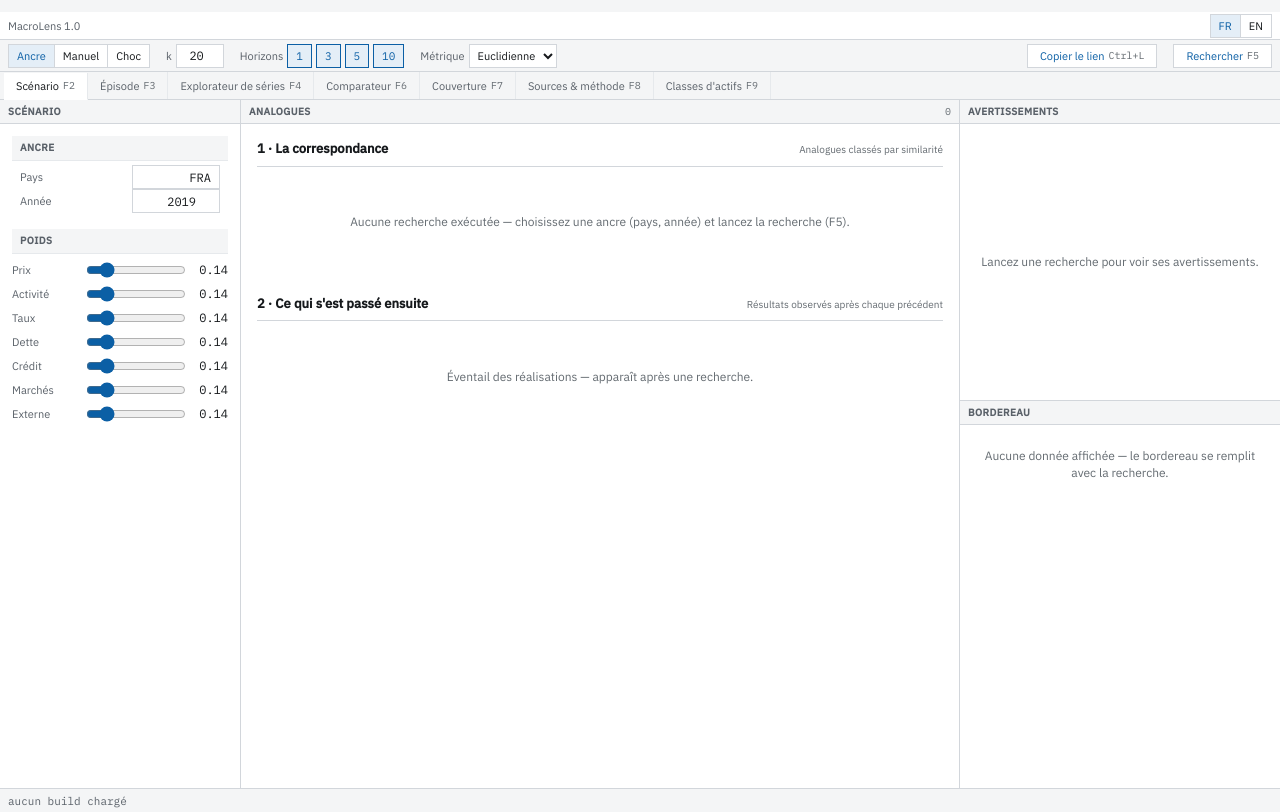
Test: Scénario : avertissements et rendements d'actifs › place les avertissements dans la colonne de droite, au-dessus de la provenance, pas dans le tableau
The image size is (1280, 812).
Click the button "Rechercher F5" at (1223, 56), box [1173,44,1272,68]
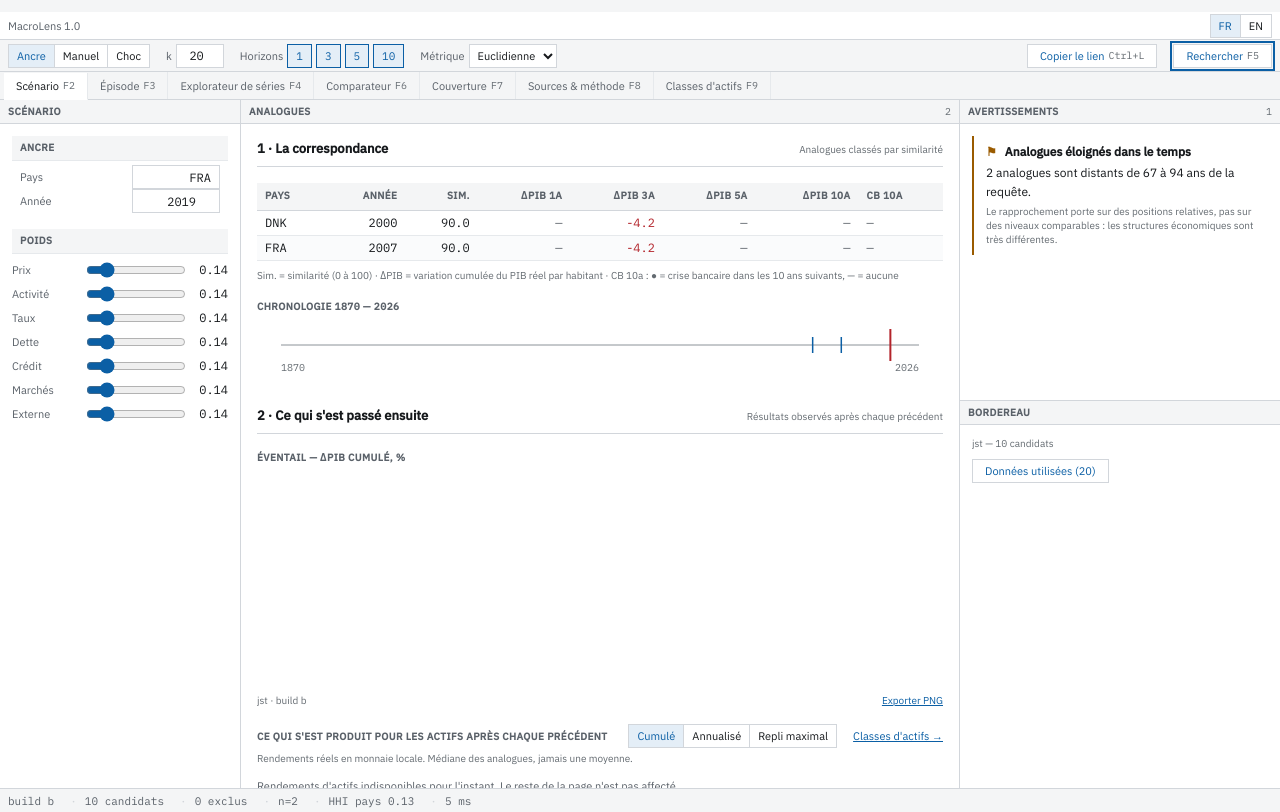
Check: the text "DNK" is shown, box [257,210,323,236]
Check: the text "2 analogues sont distants de 67 à 94 ans de la requête." is shown, box [986,164,1256,201]
